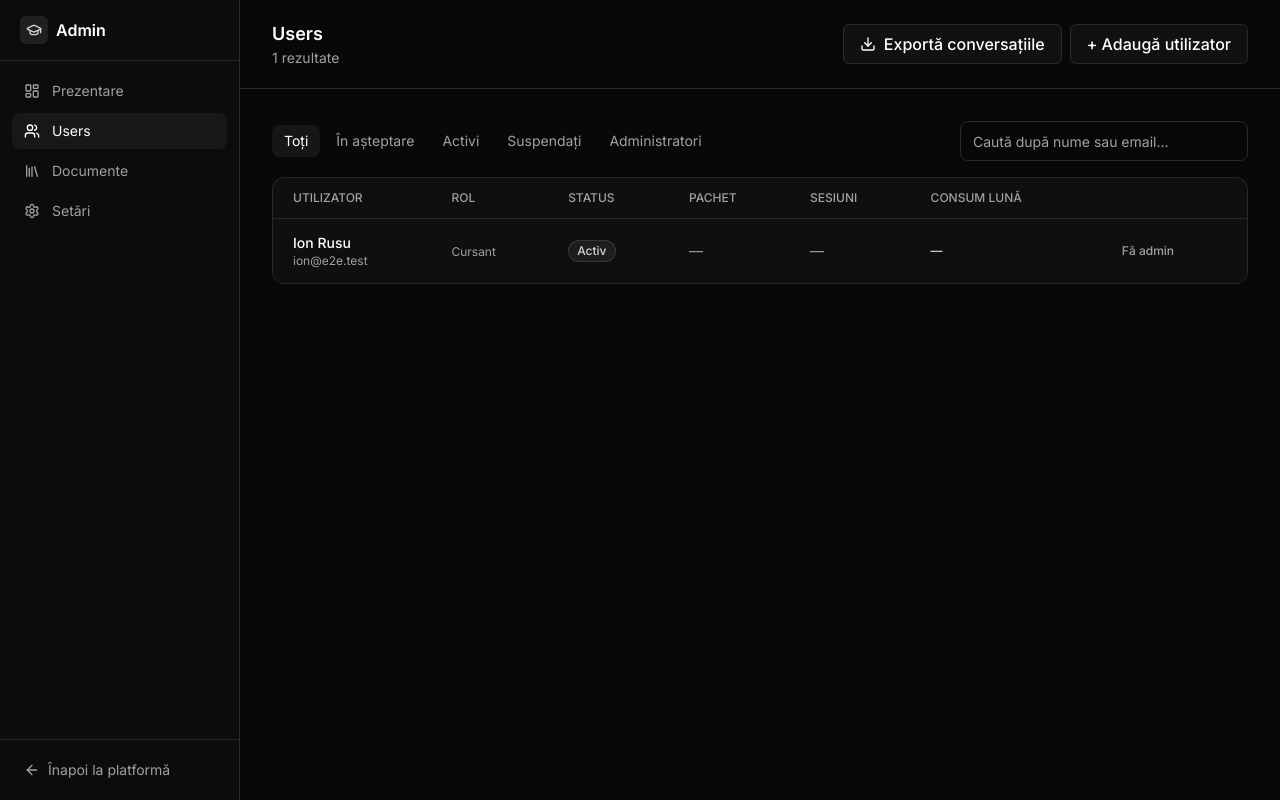
it: ADMIN-03 Users list › ADMIN-03 loaded (S8): a row is reached with Tab and opened with Enter
Check: the text "ion@e2e.test" is shown, box [293,253,368,268]
Click the field with placeholder "Caută după nume sau email…" at (1104, 141), box [960,121,1248,161]
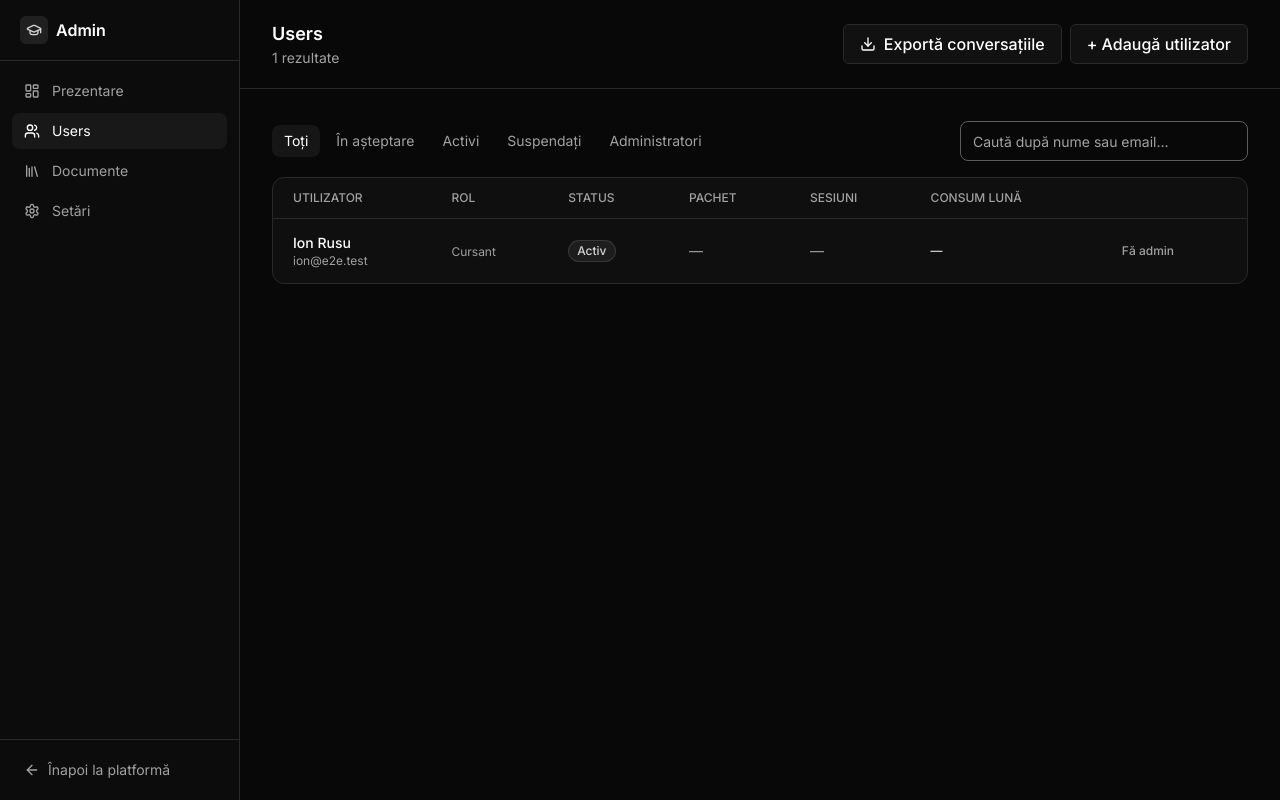
Press Tab
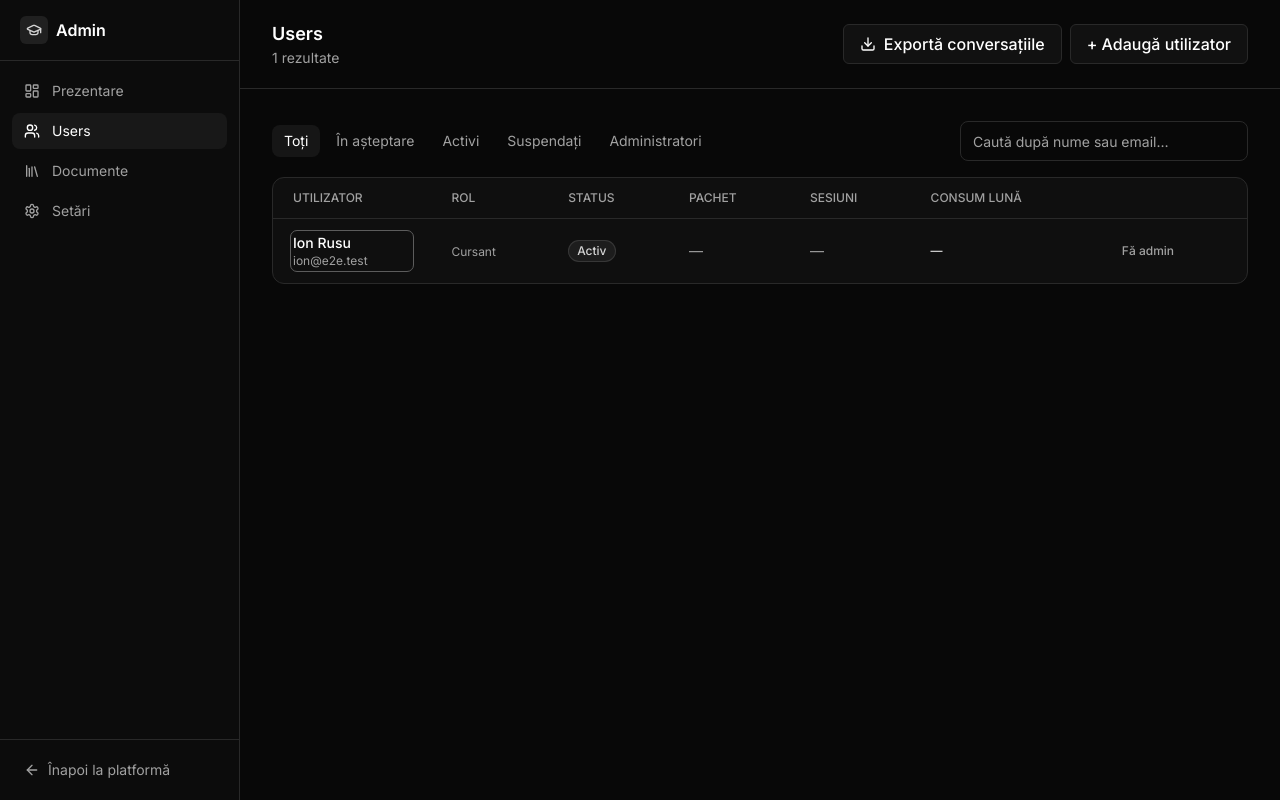
Press Enter
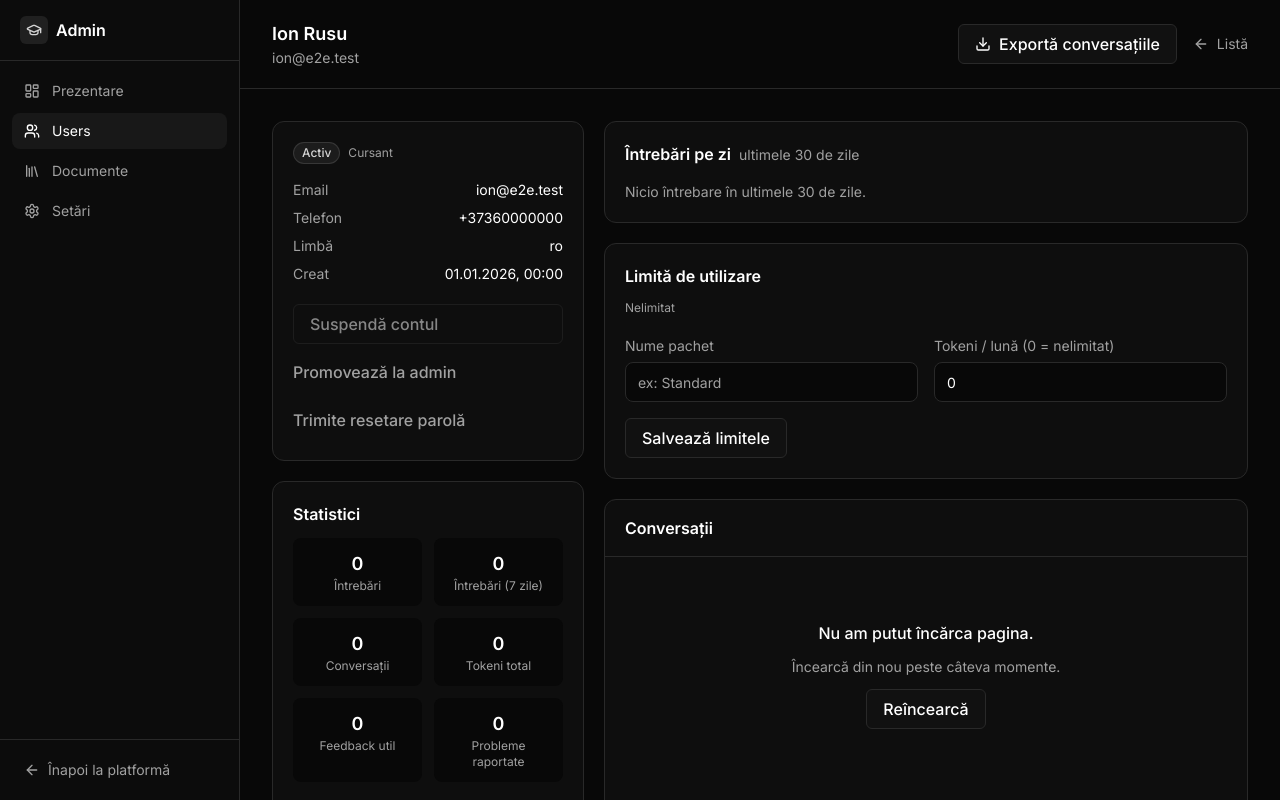
Check: the heading "Ion Rusu" is shown, box [272,20,359,48]
